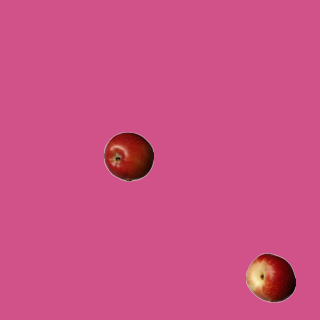Apple Braeburn: (103, 131, 153, 181)
Nectarine: (245, 252, 295, 302)
